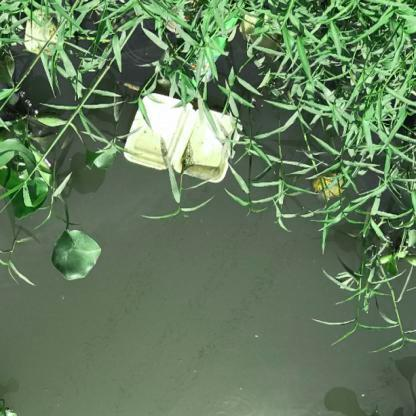Plastic: (122, 90, 243, 185)
